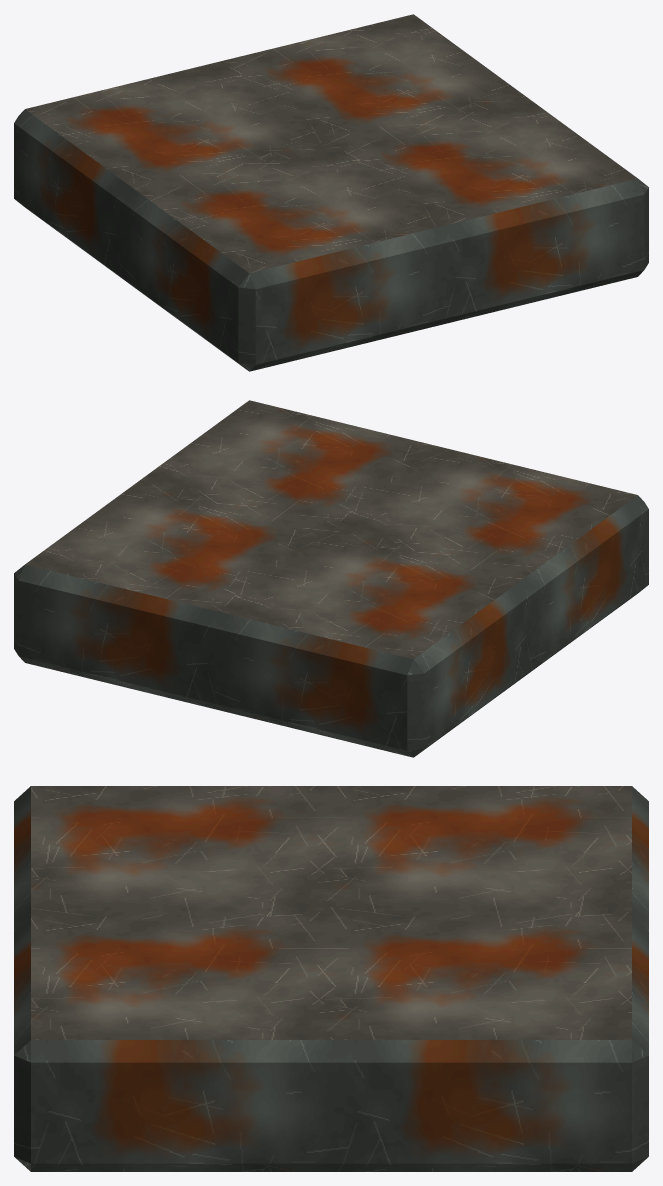
Rendered from R4B_Plate2x2_LOD1.glb.
The picture shows the model from 3 angles, top to bottom: view 1: azimuth 30°, elevation 25°; view 2: azimuth 150°, elevation 25°; view 3: azimuth 270°, elevation 25°; orthographic projection. The views are drawn at different scales.
Visible parts, largest first — view 1: R4B_Plate2x2_LOD1; view 2: R4B_Plate2x2_LOD1; view 3: R4B_Plate2x2_LOD1.
Boxes of the visible parts, bbox=[...] form: R4B_Plate2x2_LOD1: bbox=[14, 14, 648, 371]; R4B_Plate2x2_LOD1: bbox=[14, 400, 648, 757]; R4B_Plate2x2_LOD1: bbox=[14, 786, 648, 1171].
Size of the model in its own units: 1.07 by 0.245 by 1.07.
Materials: 2 (2 with a texture image).
